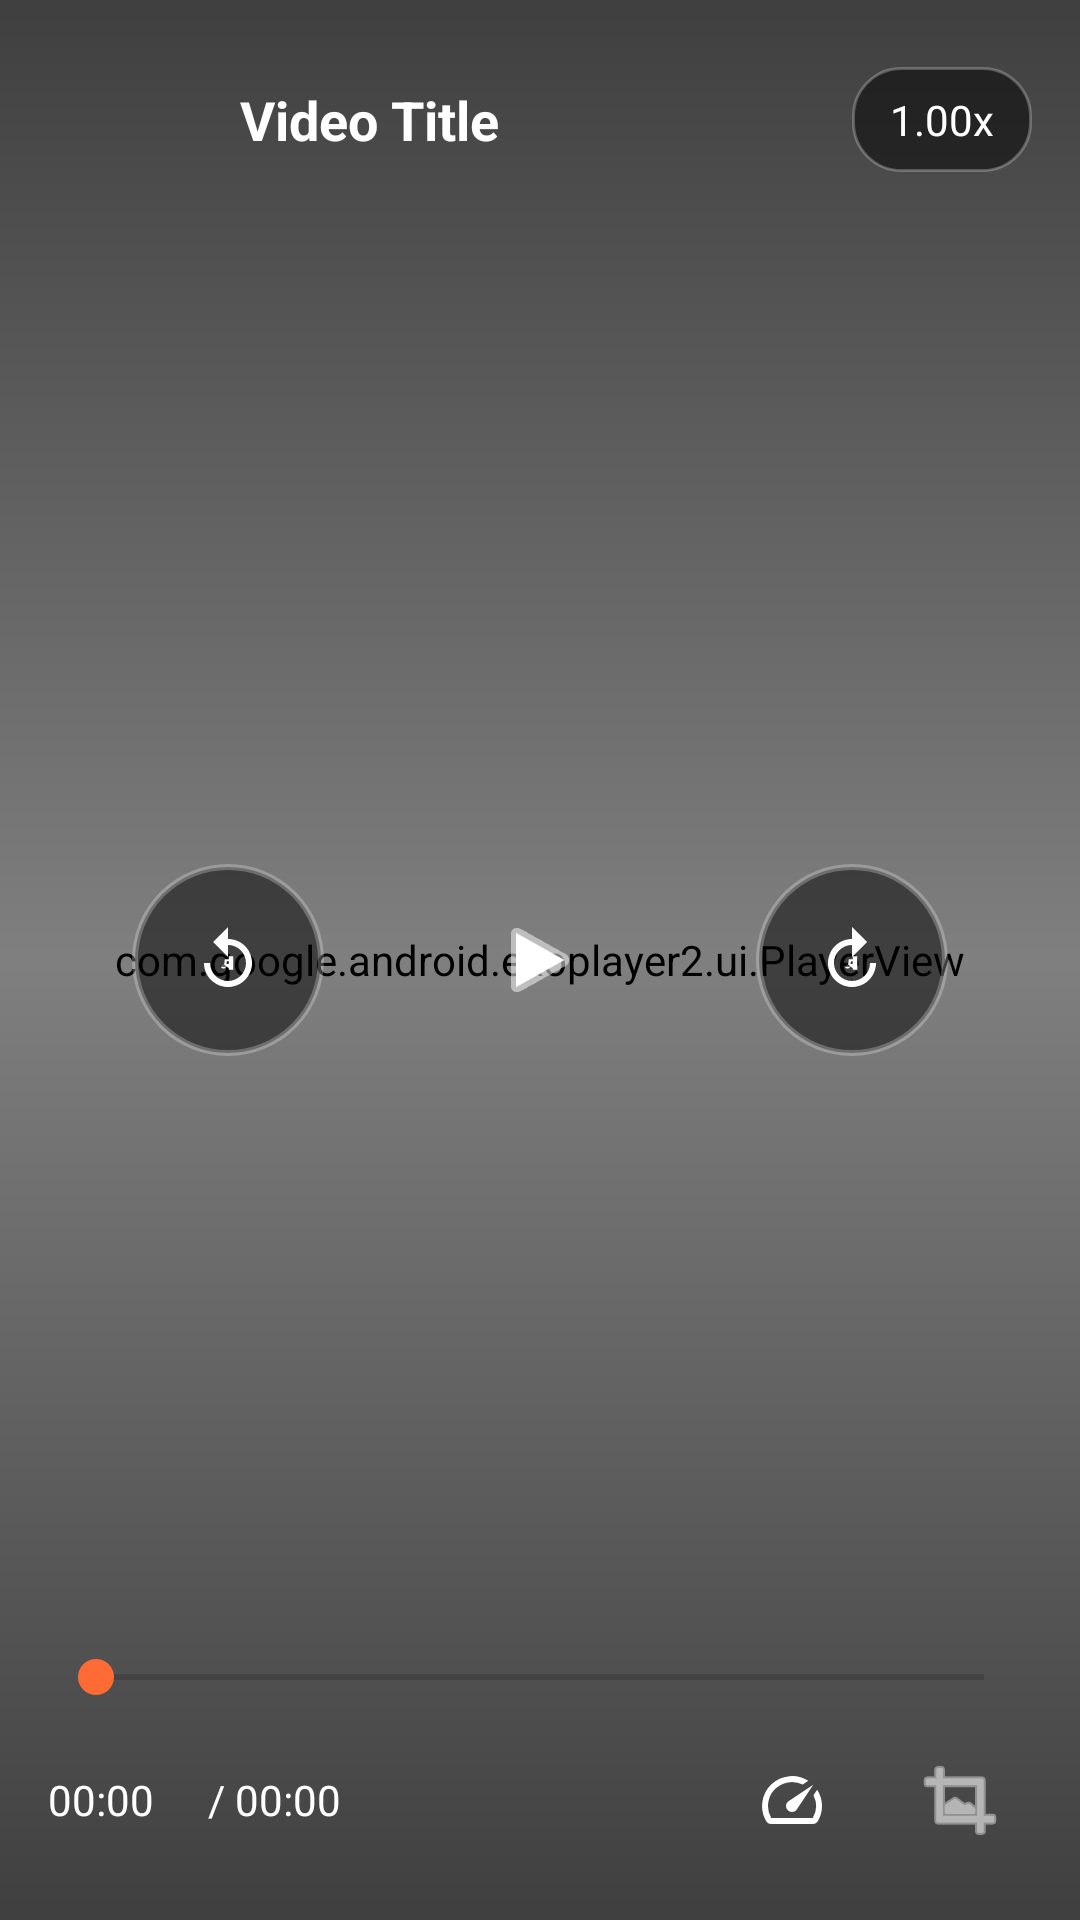

Screen size 1080px x 1920px. Icon name, then its box in pixels as (x1, y1, x2, y2):
Playback Speed: (762, 1776, 822, 1824)
